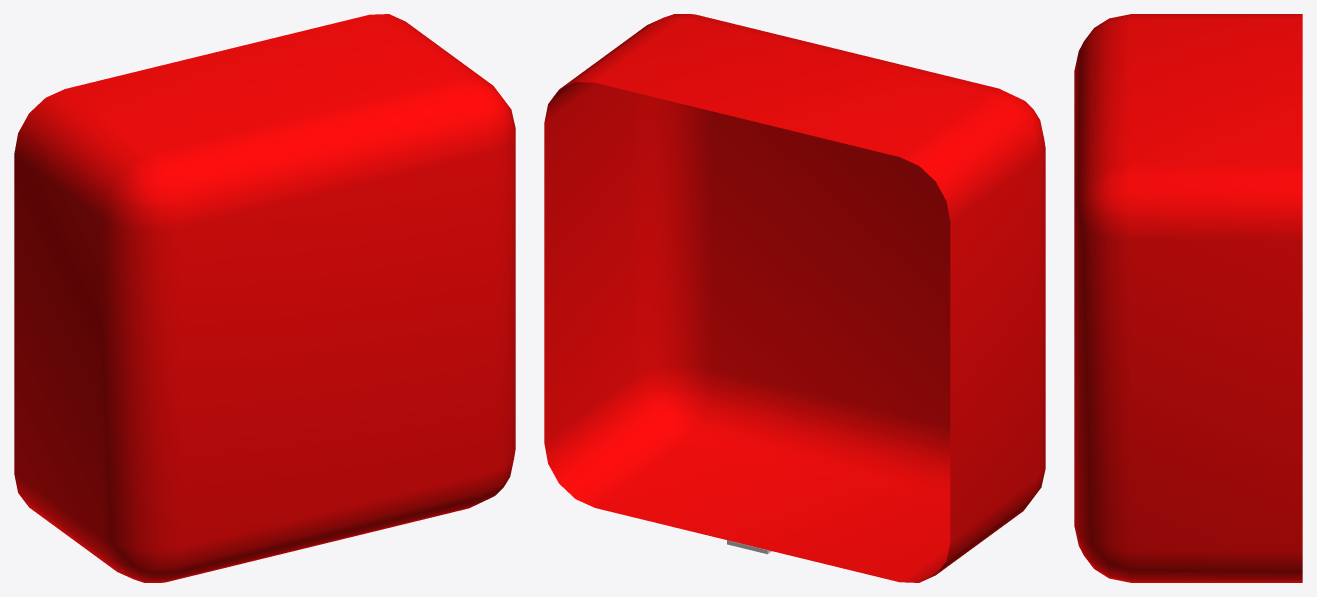
File: Burst Start.fbx
3 renders of one model, left to right at view 1: azimuth 30°, elevation 25°; view 2: azimuth 150°, elevation 25°; view 3: azimuth 270°, elevation 25°, orthographic. The views are drawn at different scales.
Visible parts, largest first — view 1: Cube; view 2: Cube; view 3: Cube.
Boxes of the visible parts, left/top/right/bottom form: Cube: left=14, top=14, right=515, bottom=582; Cube: left=544, top=14, right=1045, bottom=582; Cube: left=1074, top=14, right=1302, bottom=582.
Bounding box in the file's own units: 200 × 202 × 100.
